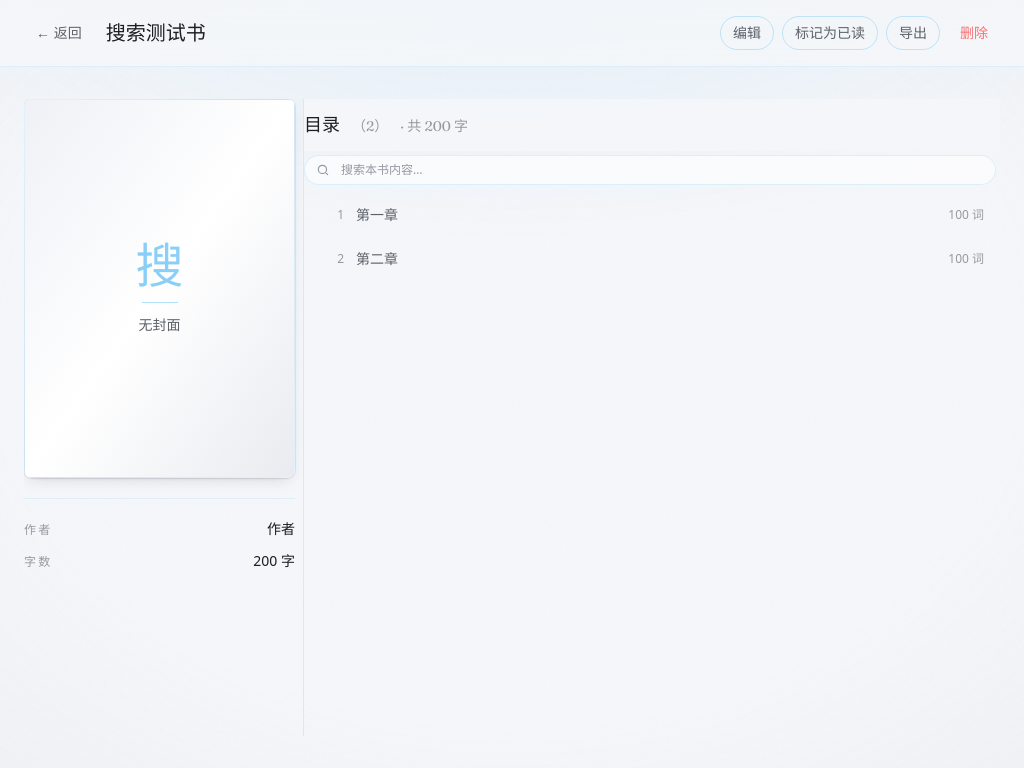
Test case: DetailPage 内容搜索(按章节分组) › 「加载更多」按章节翻页,末尾显示全部统计
expect the link "第一章" is shown: met, box [356,206,398,224]
Type "殷萱儿" into the search field with placeholder "搜索本书内容…" at (650,170), box [304,155,996,185]
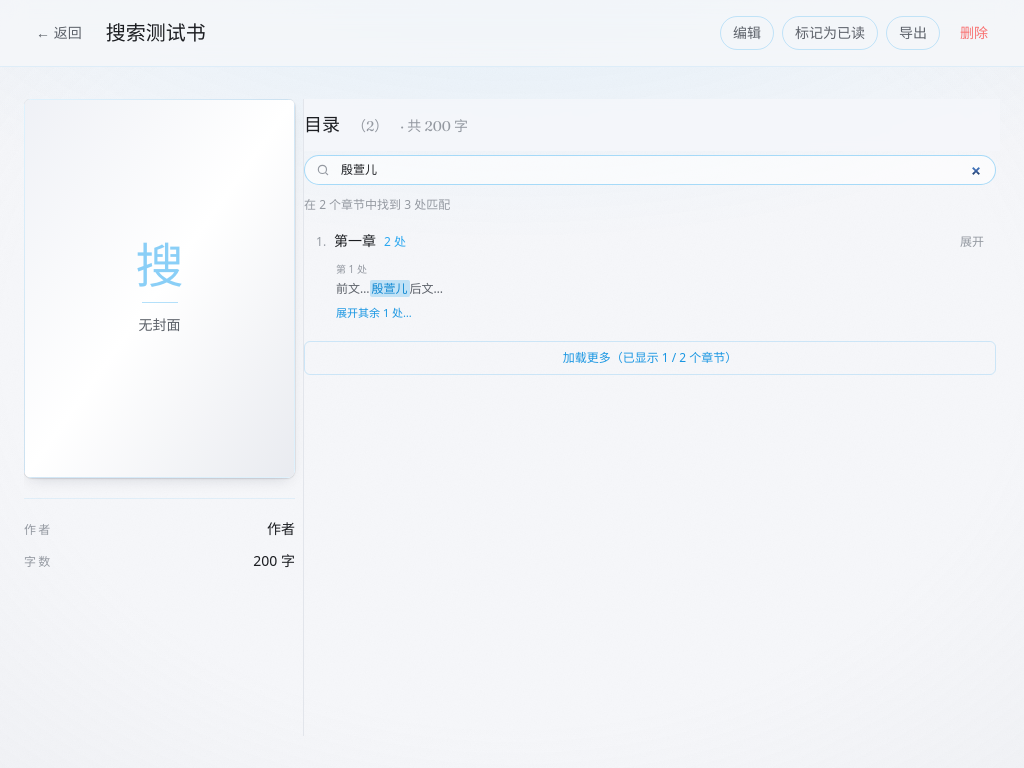
expect the text "在 2 个章节中找到 3 处匹配" is shown: met, box [304,196,450,213]
expect the button "加载更多（已显示 1 / 2 个章节）" is shown: met
expect the link "第二章" is gone: met
Click the button "加载更多（已显示 1 / 2 个章节）" at (650,358), box [304,340,996,374]
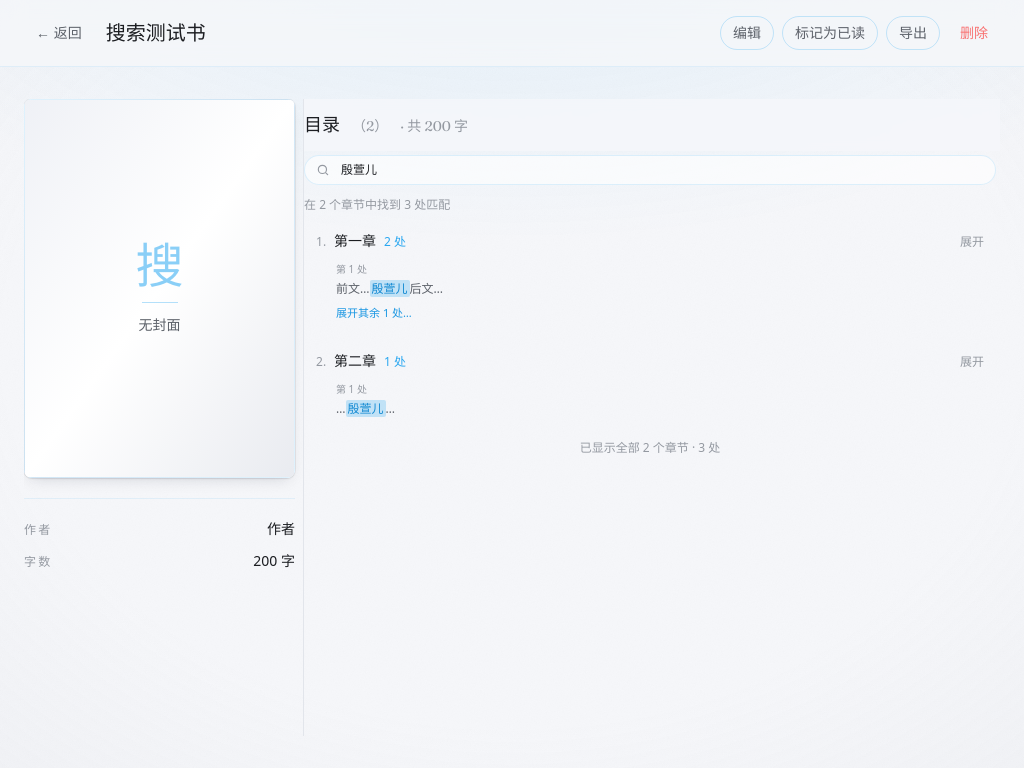
expect the text "已显示全部 2 个章节 · 3 处" is shown: met, box [580,439,720,456]
expect the text "第二章" is shown: met, box [334,350,376,370]
